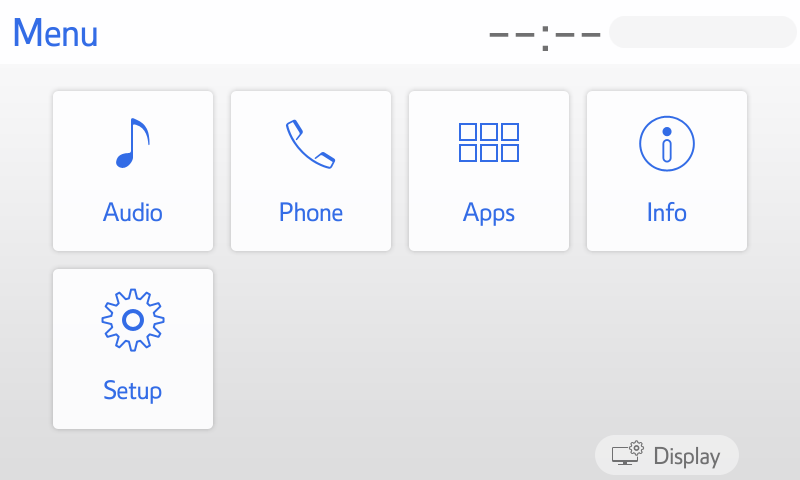touchPart: (47, 262, 222, 438), (224, 85, 398, 256), (582, 87, 752, 256), (408, 86, 572, 253), (48, 91, 216, 253), (593, 430, 746, 473)
untouchPart: (481, 10, 794, 58), (10, 10, 98, 50)
